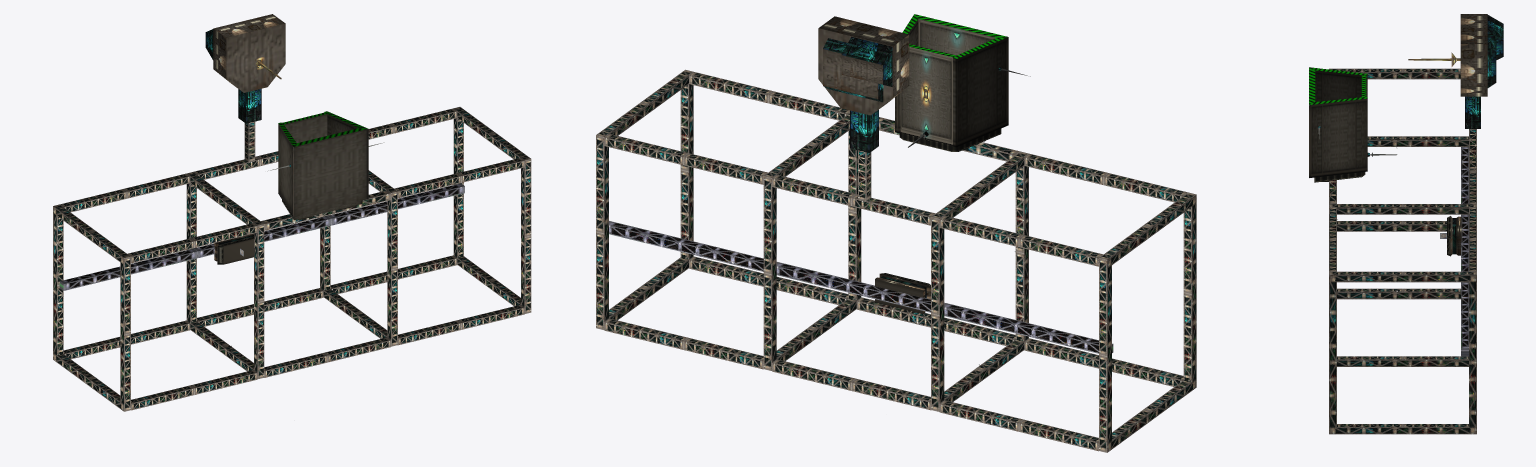
Rendered from acs05.obj.
3 views of the same model, side by side, from view 1: azimuth 30°, elevation 25°; view 2: azimuth 150°, elevation 25°; view 3: azimuth 270°, elevation 25° (orthographic). The views are drawn at different scales.
Parts seen in each view (by area): view 1: frm-fuselg, frm-mfuselg17, frm-mfuselg23, frm-mfuselg25, frm-fuselg3, frm-mfuselg24, frm-mfuselg14, frm-mfuselg1, frm-fuselg5, frm-mfuselg20, frm-mfuselg13, frm-fuselg6 (+11 smaller); view 2: frm-fuselg, frm-mfuselg17, frm-mfuselg23, frm-mfuselg25, frm-mfuselg24, frm-fuselg3, frm-mfuselg11, frm-mfuselg2, frm-mfuselg12, frm-mfusegl4, frm-mfusegl3, frm-mfuselg14 (+15 smaller); view 3: frm-fuselg, frm-mfuselg25, frm-mfuselg24, frm-mfuselg23, frm-mfuselg17, frm-fuselg3, frm-mfuselg22, frm-cube1, frm-fuselg4, frm-mfuselg2, frm-mfuselg1, frm-fuselg1 (+6 smaller).
Boxes of the visible parts, bbox=[...] form: frm-fuselg: bbox=[278, 111, 368, 217]; frm-mfuselg17: bbox=[53, 204, 130, 411]; frm-mfuselg23: bbox=[186, 172, 264, 378]; frm-mfuselg25: bbox=[453, 107, 531, 313]; frm-fuselg3: bbox=[213, 14, 285, 92]; frm-mfuselg24: bbox=[320, 170, 397, 346]; frm-mfuselg14: bbox=[127, 223, 257, 263]; frm-mfuselg1: bbox=[394, 157, 524, 198]; frm-fuselg5: bbox=[264, 337, 391, 377]; frm-mfuselg20: bbox=[59, 248, 197, 290]; frm-mfuselg13: bbox=[131, 370, 257, 410]; frm-fuselg6: bbox=[398, 304, 524, 345]; frm-fuselg: bbox=[895, 14, 1008, 147]; frm-mfuselg17: bbox=[1099, 192, 1196, 452]; frm-mfuselg23: bbox=[931, 151, 1028, 411]; frm-mfuselg25: bbox=[596, 69, 693, 329]; frm-mfuselg24: bbox=[763, 113, 861, 370]; frm-fuselg3: bbox=[818, 16, 909, 115]; frm-mfuselg11: bbox=[939, 215, 1103, 266]; frm-mfuselg2: bbox=[604, 134, 767, 184]; frm-mfuselg12: bbox=[939, 400, 1098, 451]; frm-mfusegl4: bbox=[604, 318, 763, 369]; frm-mfusegl3: bbox=[772, 359, 931, 410]; frm-mfuselg14: bbox=[1024, 153, 1187, 202]; frm-fuselg: bbox=[1309, 67, 1367, 177]; frm-mfuselg25: bbox=[1329, 271, 1476, 434]; frm-mfuselg24: bbox=[1329, 204, 1476, 366]; frm-mfuselg23: bbox=[1337, 136, 1468, 299]; frm-mfuselg17: bbox=[1329, 68, 1460, 231]; frm-fuselg3: bbox=[1460, 14, 1487, 96]; frm-mfuselg22: bbox=[1461, 282, 1468, 356]; frm-cube1: bbox=[1447, 216, 1461, 256]; frm-fuselg4: bbox=[1465, 96, 1480, 128]; frm-mfuselg2: bbox=[1469, 207, 1476, 271]; frm-mfuselg1: bbox=[1329, 207, 1336, 271]; frm-fuselg1: bbox=[1487, 15, 1503, 59].
Bounding box in the file's own units: 26.03 × 18.69 × 10.77.
